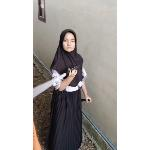Pedang: (32, 64, 84, 99)
